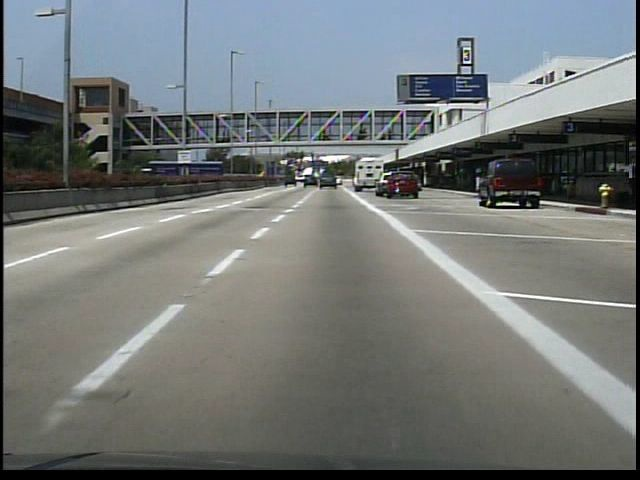person: (618, 155, 639, 207), (408, 170, 424, 197)
